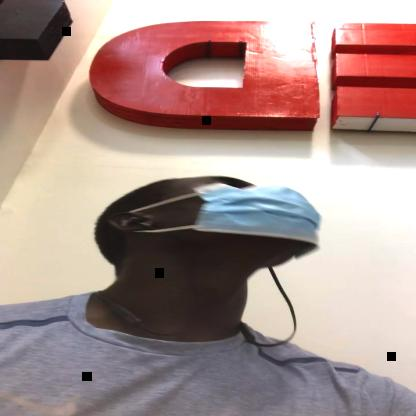mask: (134, 174, 323, 262)
